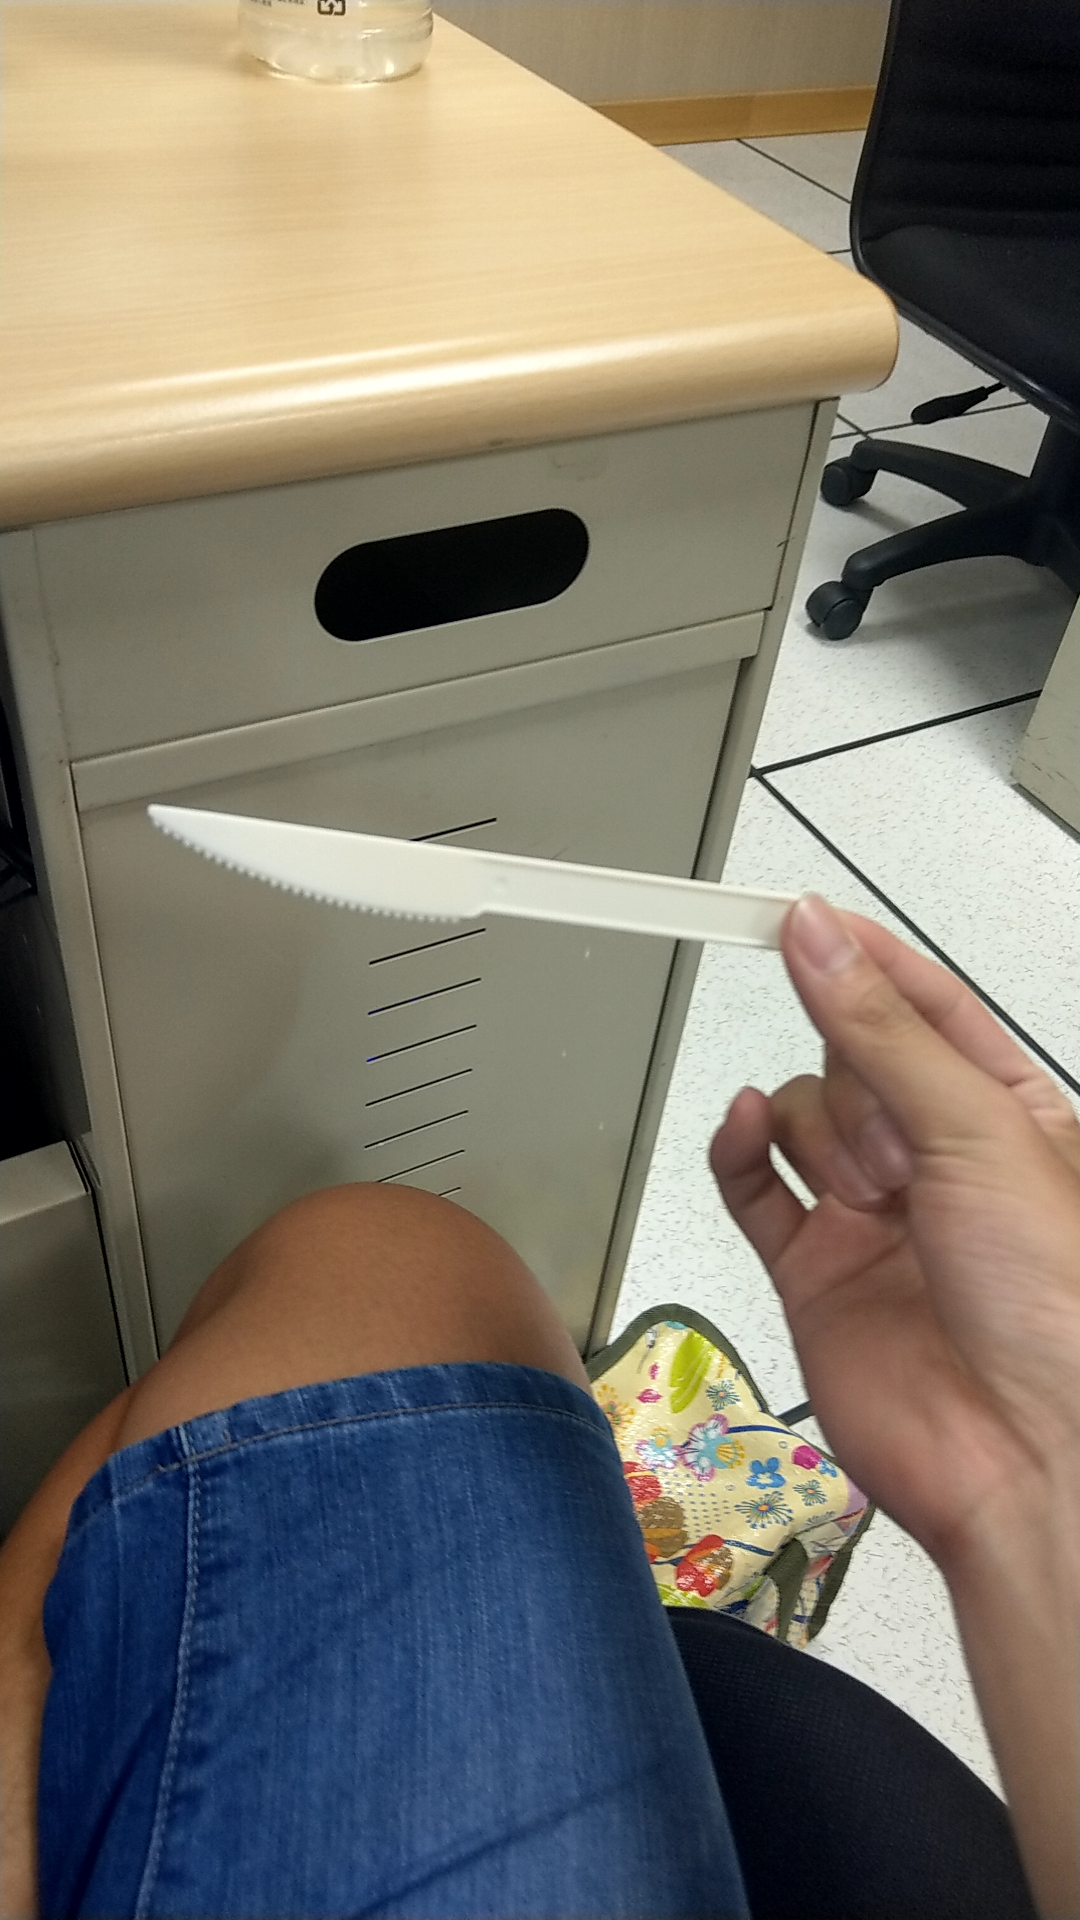knife: (104, 779, 808, 972)
